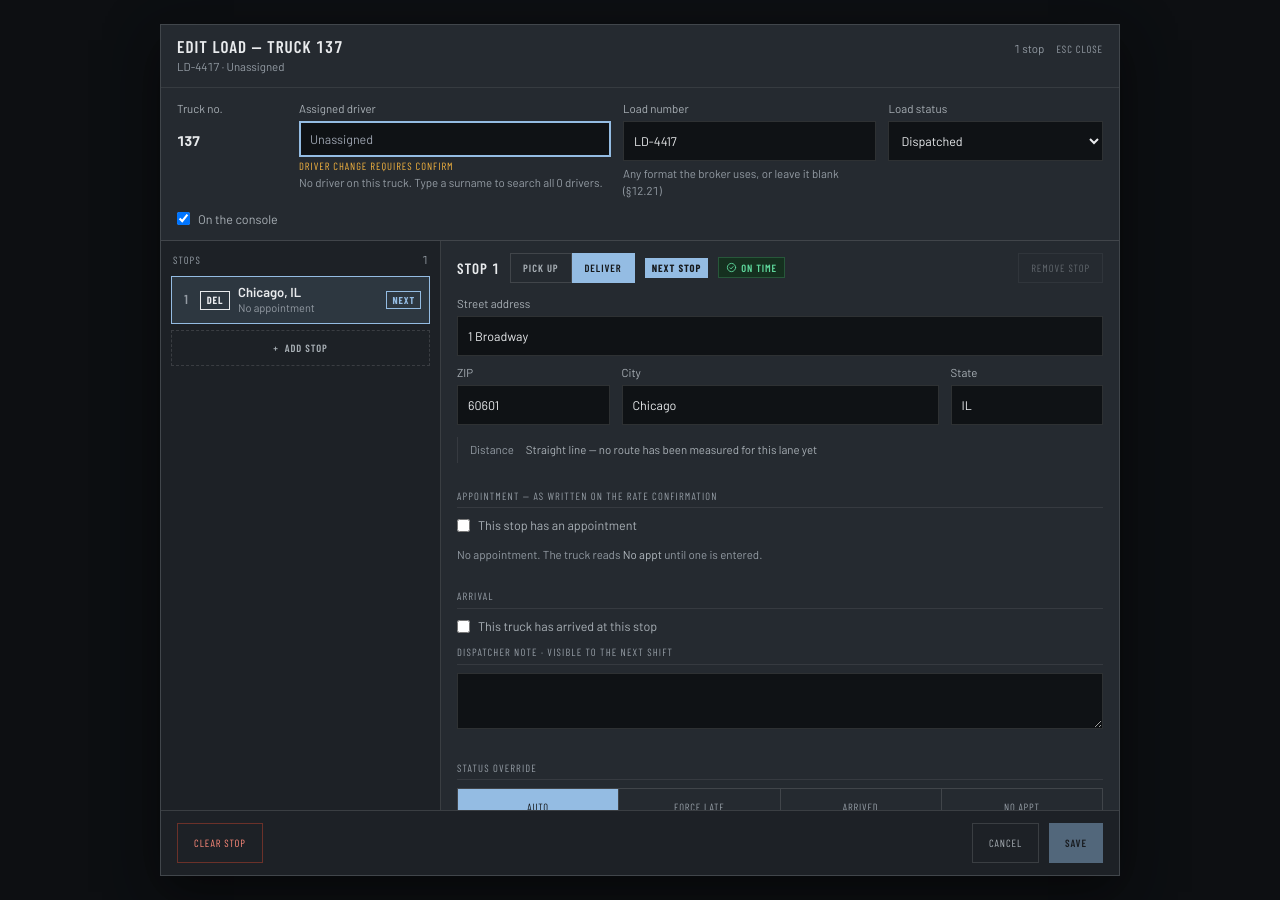
it: Clear stop (§12.88) › opens a confirm step with focus on the confirm button, not a field
Click the button "Clear stop" at (220, 843), box [177,823,263,863]
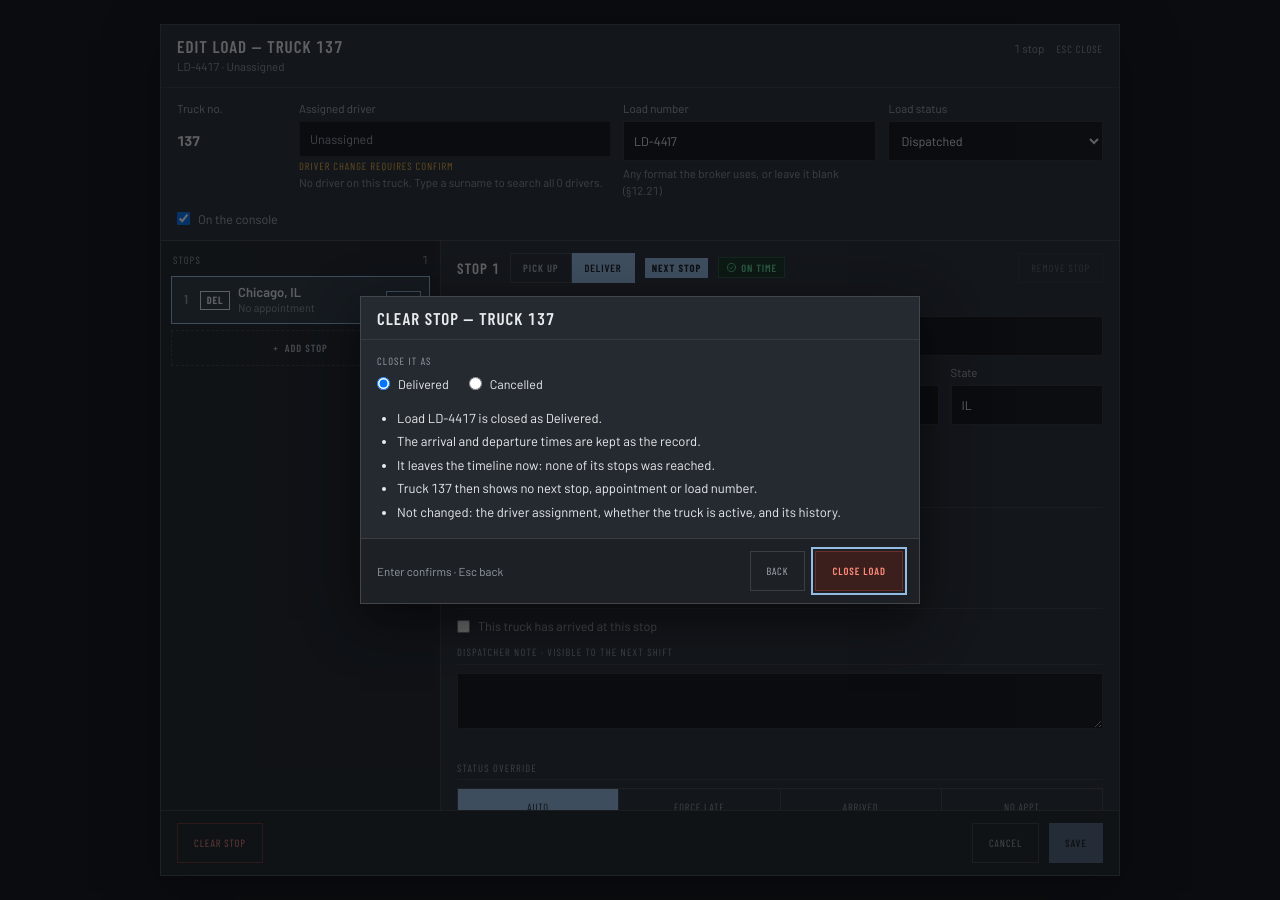
Now the dialog named "Confirm clear stop" is shown
Now the dialog named "Confirm clear stop" shows "Load LD-4417 is closed as Delivered.", box [397,410,602,426]
Now the dialog named "Confirm clear stop" shows "The arrival and departure times are kept as the record.", box [397,433,701,449]
